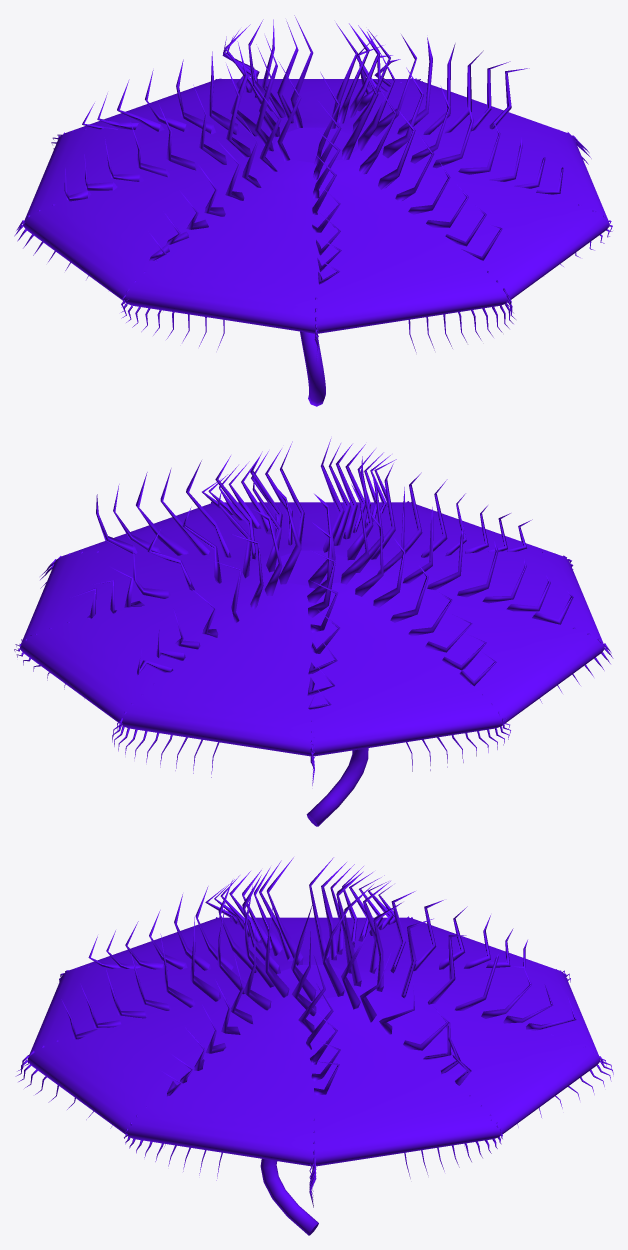
File: mushroom1.fbx
3 views of the same model, one above another, from view 1: azimuth 30°, elevation 25°; view 2: azimuth 150°, elevation 25°; view 3: azimuth 270°, elevation 25° (orthographic). The views are drawn at different scales.
Visible parts, largest first — view 1: Plane.002; view 2: Plane.002; view 3: Plane.002.
Part boxes in pixels (x1,y1,x2,y2): Plane.002: (14,15,612,406); Plane.002: (14,438,613,826); Plane.002: (15,857,613,1235).
Bounding box in the file's own units: 716 × 479 × 725.
